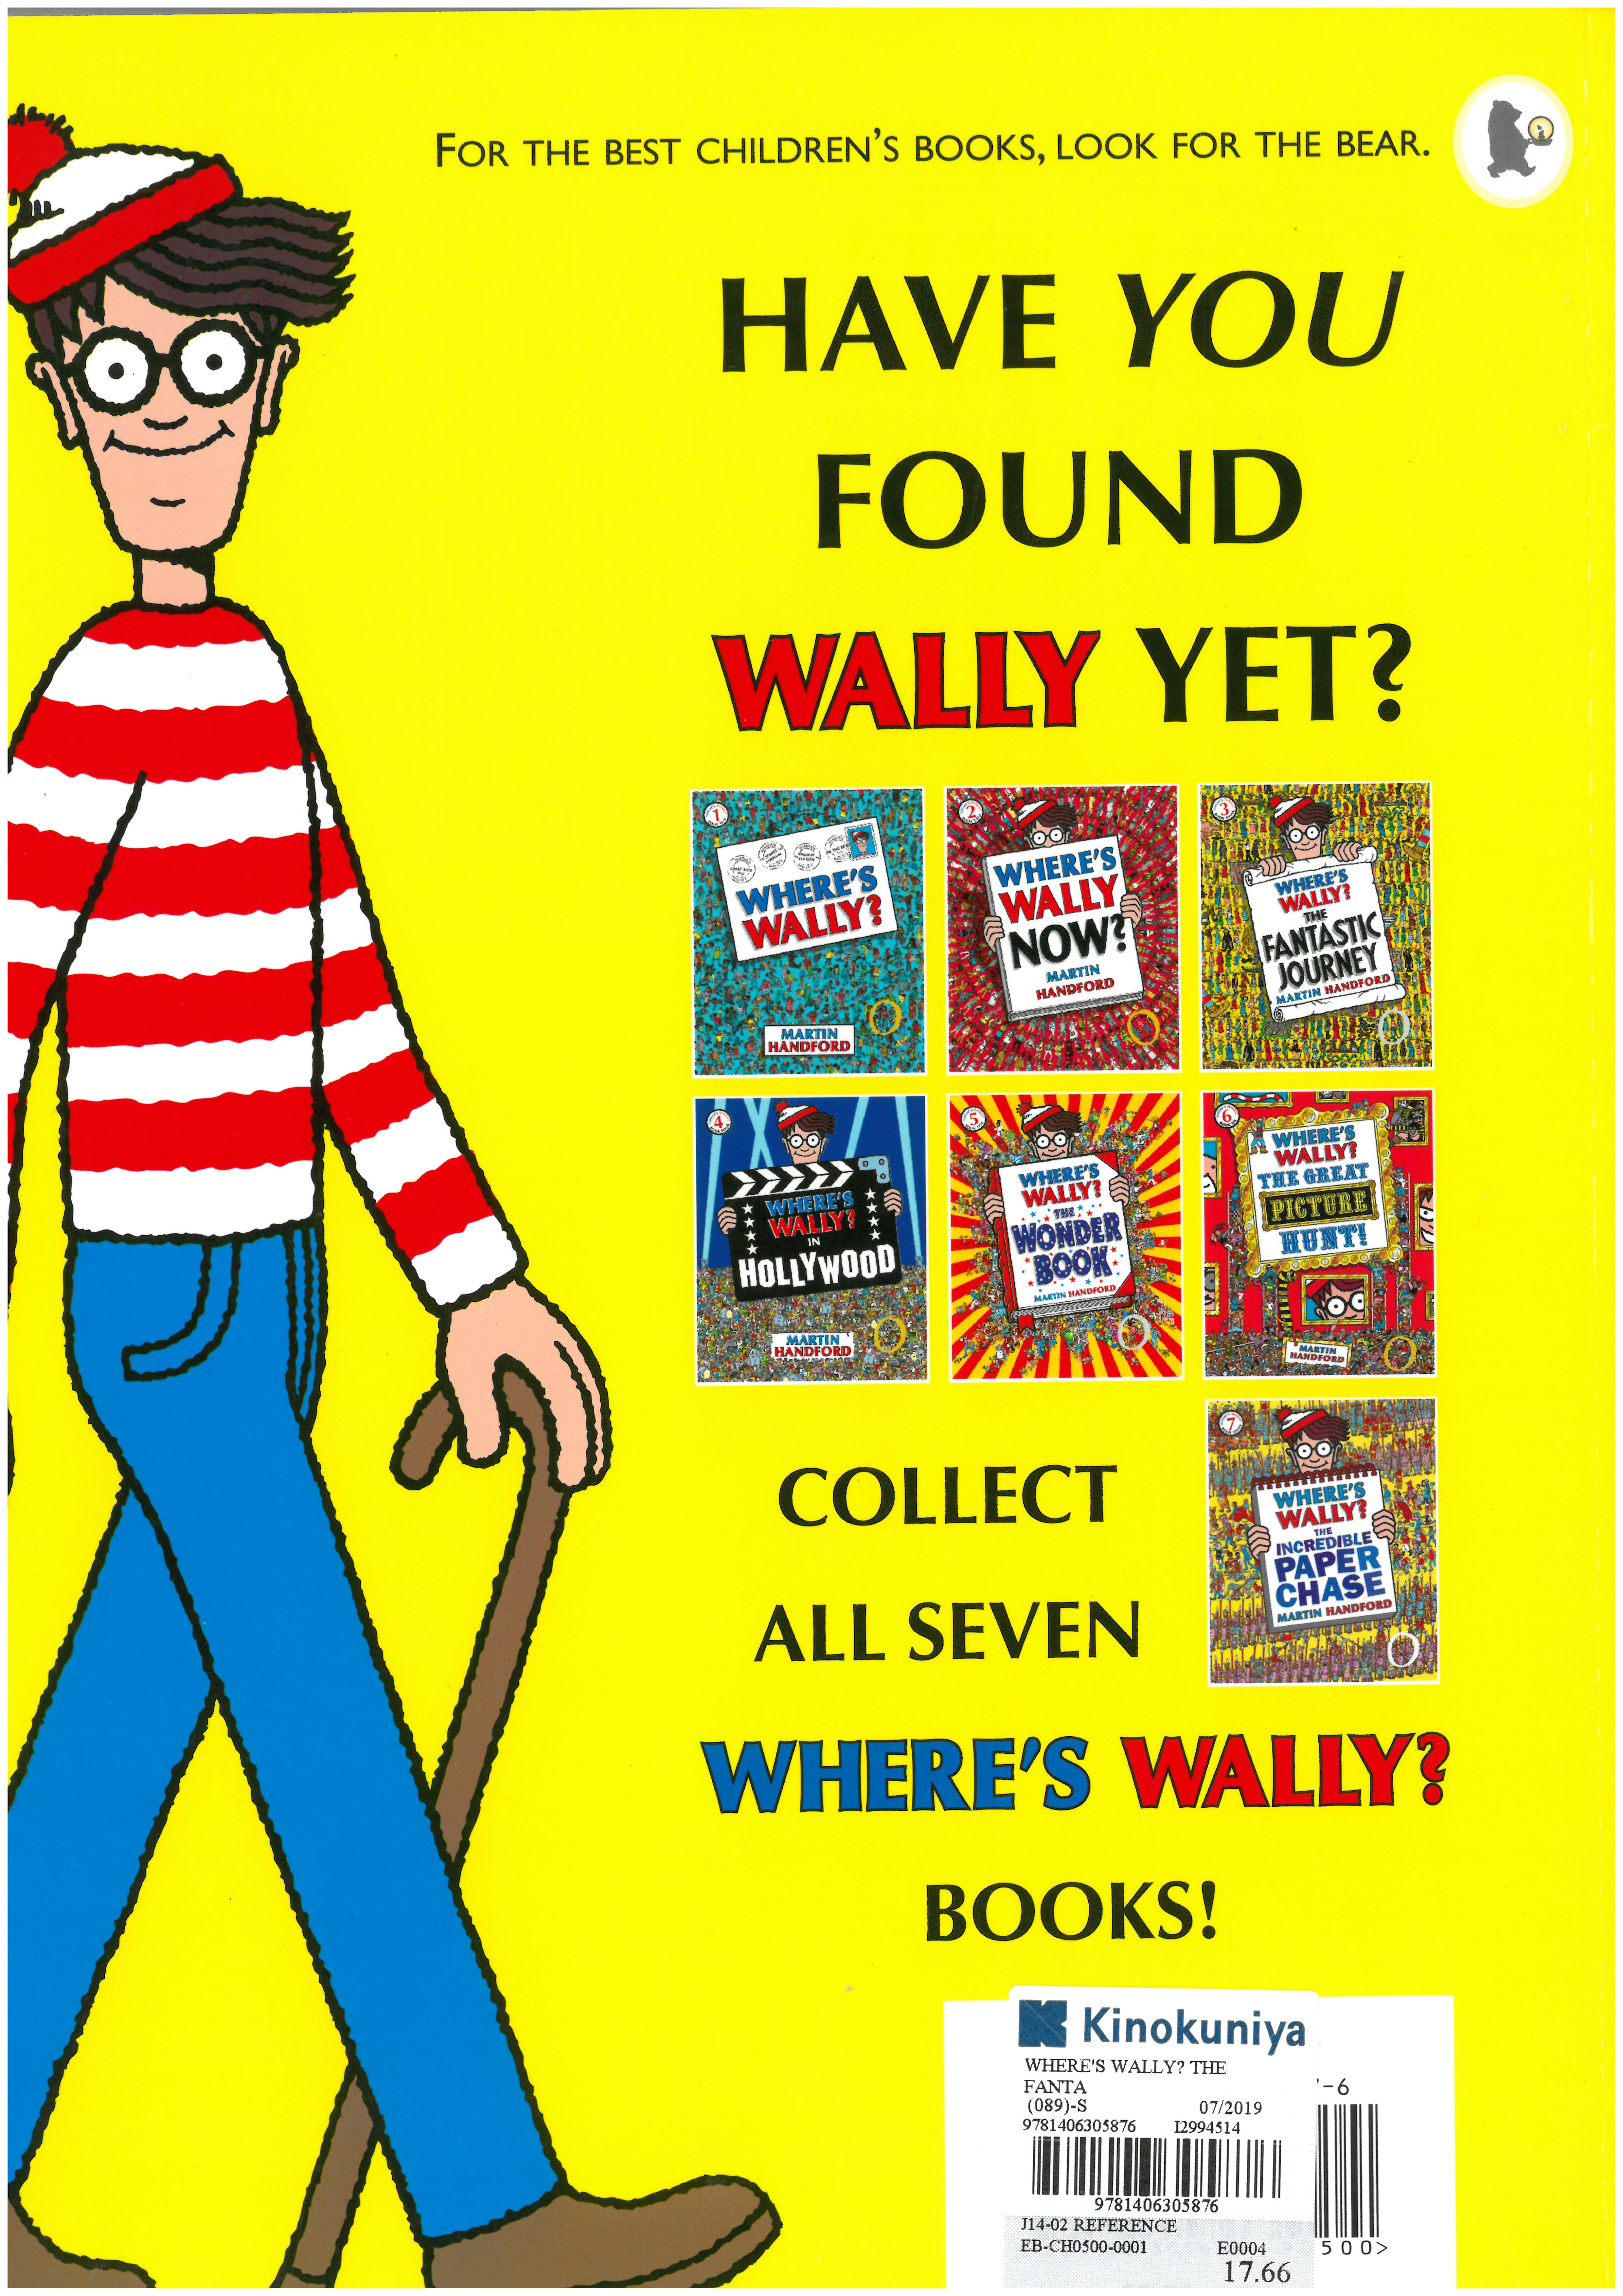waldo: (14, 104, 792, 2278), (1273, 1397, 1351, 1476), (1268, 794, 1333, 859), (1017, 1101, 1082, 1165), (775, 1098, 836, 1165), (1012, 796, 1078, 852), (1303, 1275, 1365, 1321), (847, 827, 875, 857)
